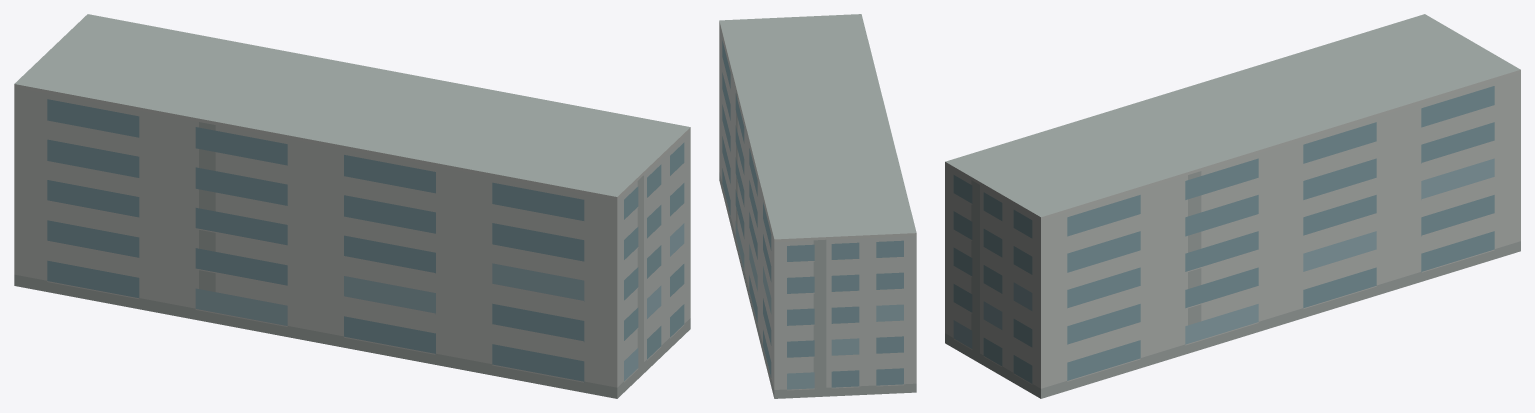
File: residential-9c85f38f-7d3f-4f63-8af2-7eeff420aff0.glb
3 views of the same model, side by side, from view 1: azimuth 30°, elevation 25°; view 2: azimuth 150°, elevation 25°; view 3: azimuth 270°, elevation 25° (orthographic). The views are drawn at different scales.
Parts seen in each view (by area): view 1: residential-9c85f38f-7d3f-4f63-8af2-7eeff420aff0.tmp; view 2: residential-9c85f38f-7d3f-4f63-8af2-7eeff420aff0.tmp; view 3: residential-9c85f38f-7d3f-4f63-8af2-7eeff420aff0.tmp.
Boxes of the visible parts, left/top/right/bottom form: residential-9c85f38f-7d3f-4f63-8af2-7eeff420aff0.tmp: left=14, top=14, right=690, bottom=398; residential-9c85f38f-7d3f-4f63-8af2-7eeff420aff0.tmp: left=719, top=14, right=916, bottom=398; residential-9c85f38f-7d3f-4f63-8af2-7eeff420aff0.tmp: left=945, top=14, right=1520, bottom=398.
Bounding box in the file's own units: 35.18 × 14.65 × 42.1.
